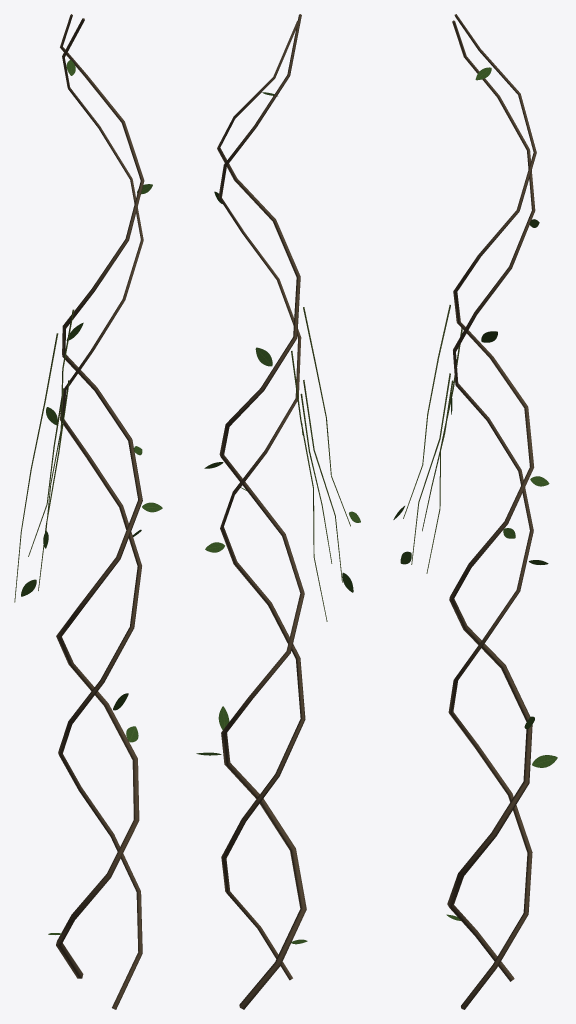
File: liana_climb_07_lod2.gltf
3 renders of one model, left to right at view 1: azimuth 30°, elevation 25°; view 2: azimuth 150°, elevation 25°; view 3: azimuth 330°, elevation 25°, orthographic.
Visible parts, largest first — view 1: liana_climb_07; view 2: liana_climb_07; view 3: liana_climb_07.
Boxes of the visible parts, <box> form: liana_climb_07: <box>14,14,162,1009</box>; liana_climb_07: <box>196,14,360,1009</box>; liana_climb_07: <box>393,14,557,1009</box>.
Bounding box in the file's own units: 1.1 × 7.02 × 0.6122.
3 materials, 3 textured.
